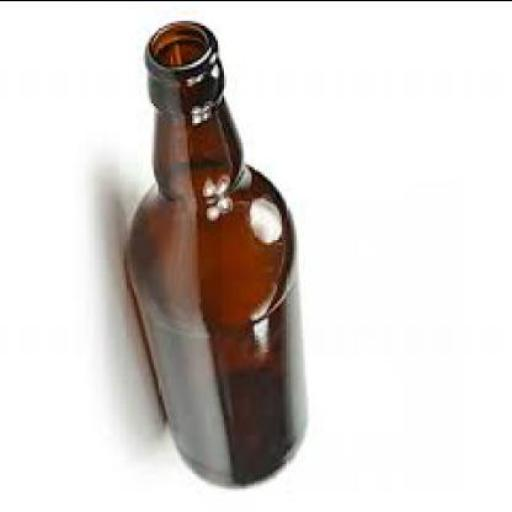glass: (126, 22, 310, 490)
